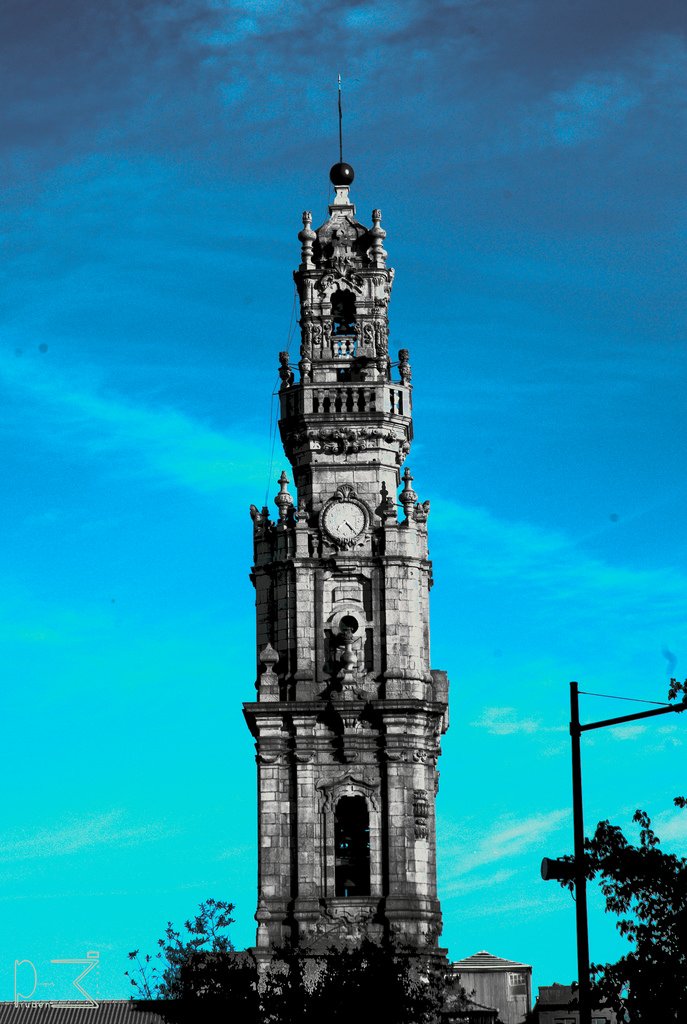clerigos: (243, 74, 451, 1023)
